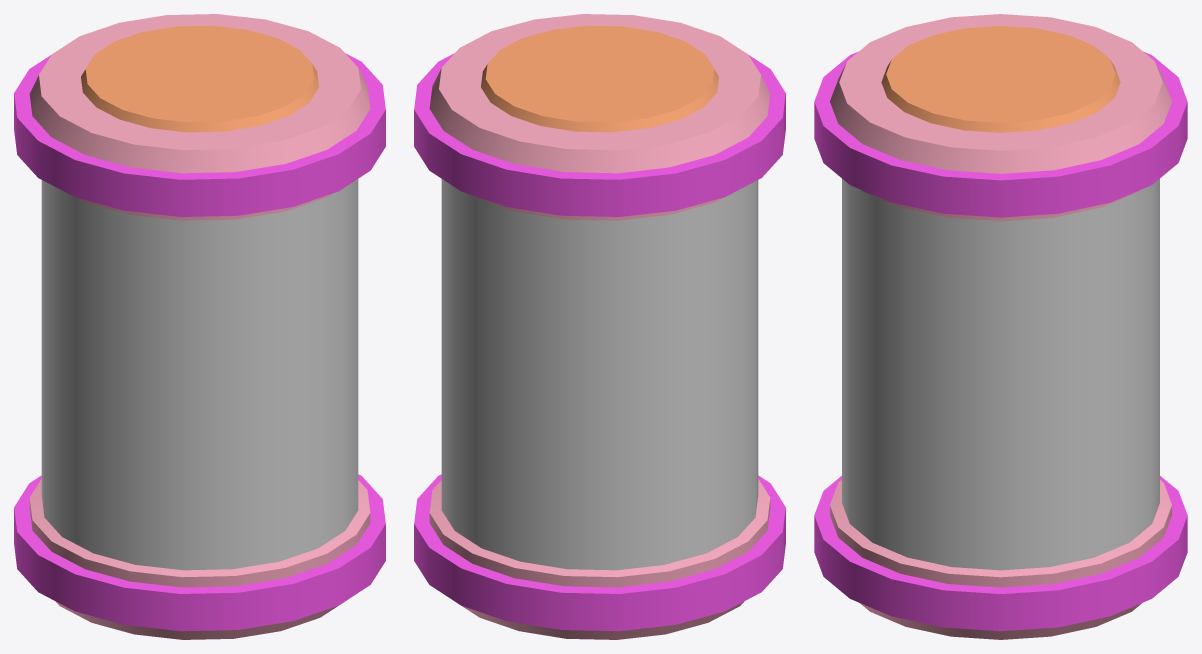
File: energy_cell.fbx
3 renders of one model, left to right at view 1: azimuth 30°, elevation 25°; view 2: azimuth 150°, elevation 25°; view 3: azimuth 270°, elevation 25°, orthographic.
Parts seen in each view (by area): view 1: glass, Cylinder; view 2: glass, Cylinder; view 3: glass, Cylinder.
Boxes of the visible parts, x1,y1,x2,y2 form: glass: (41, 179, 358, 570); Cylinder: (14, 14, 385, 639); glass: (441, 179, 758, 570); Cylinder: (414, 14, 785, 639); glass: (842, 179, 1159, 570); Cylinder: (814, 14, 1187, 639).
Size of the model in its own units: 118 by 176 by 118.
